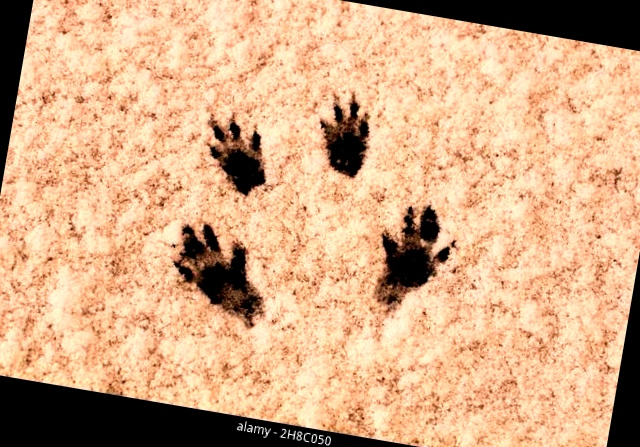ecureuil: (154, 208, 283, 336), (365, 190, 471, 301), (300, 74, 387, 188), (191, 103, 285, 204)
